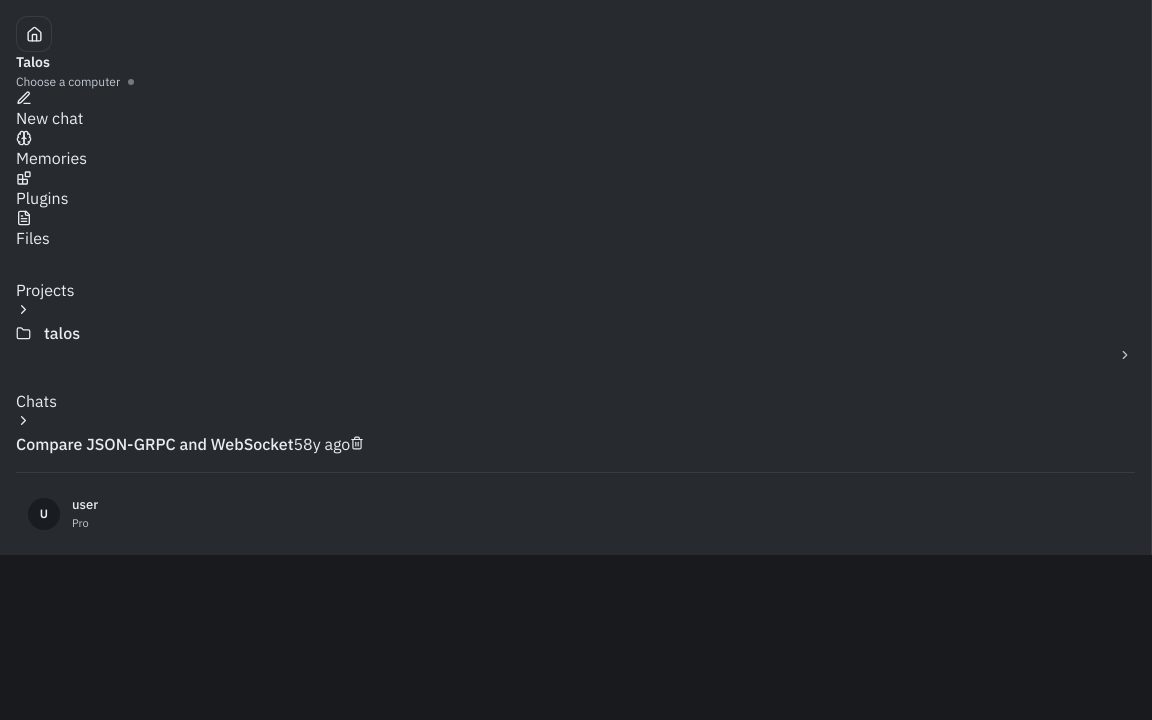
Scenario: Sidebar › shows settings from the account menu
expect the text "Pro" is shown: met, box [72,516,89,530]
Click the button "U user Pro" at (44, 514), box [16,489,1135,539]
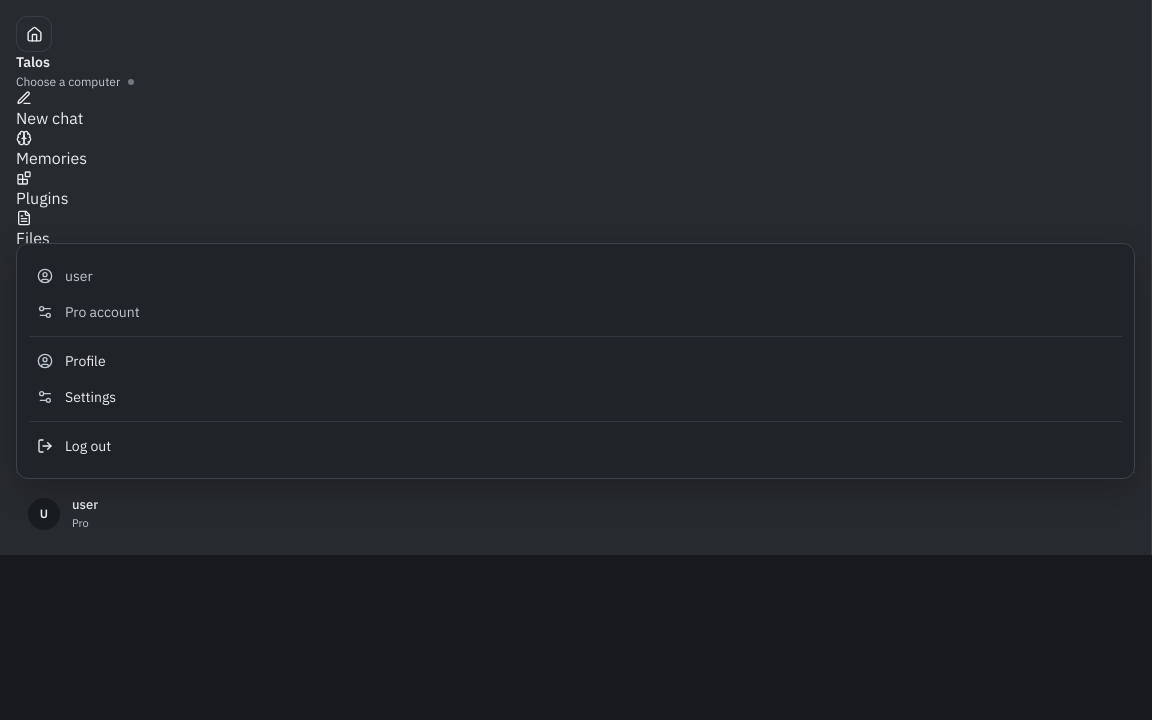
expect the link "Settings" is shown: met, box [37,388,116,406]
expect the link "Profile" is shown: met, box [37,352,106,370]
expect the text "Log out" is shown: met, box [65,437,111,455]
